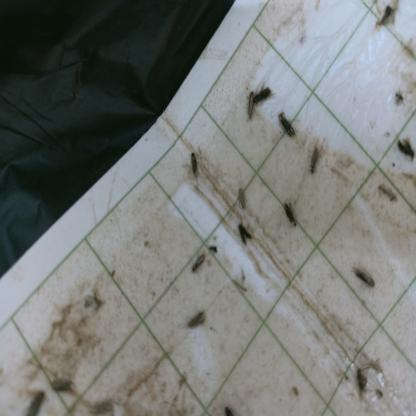prays_oleae: (302, 139, 326, 182), (352, 260, 378, 298), (275, 110, 301, 148), (396, 128, 416, 173), (50, 368, 70, 404), (282, 197, 300, 232), (26, 383, 46, 412), (235, 220, 254, 247), (190, 251, 209, 276), (242, 91, 257, 122), (185, 148, 201, 177), (234, 182, 249, 212), (255, 85, 271, 105)
